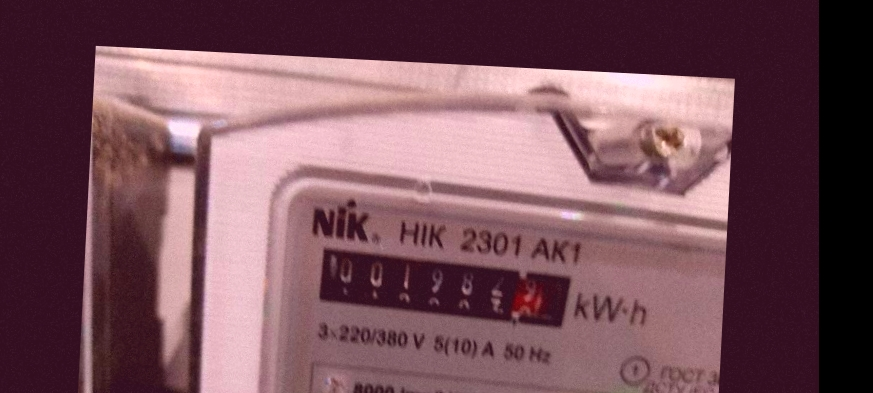0: (367, 258, 385, 288), (337, 254, 354, 283)
1: (399, 260, 412, 289)
2: (489, 267, 508, 297)
8: (459, 267, 476, 296)
9: (519, 275, 541, 304), (428, 264, 444, 294)
screen: (301, 232, 586, 342)
